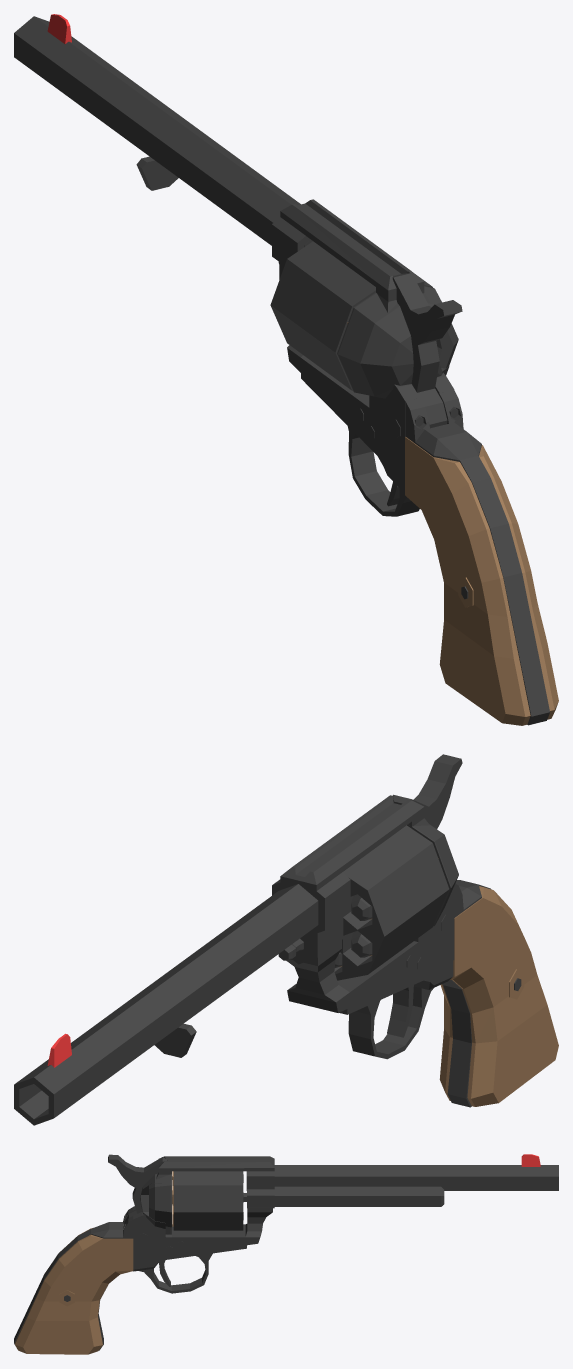
Rendered from pistol_10.glb.
3 renders of one model, top to bottom at view 1: azimuth 30°, elevation 25°; view 2: azimuth 150°, elevation 25°; view 3: azimuth 270°, elevation 25°, orthographic. The views are drawn at different scales.
Visible parts, largest first — view 1: p7_paint, p37_accent, p0_paint, p15_paint, p33_paint, p8_paint, p36_paint, p6_paint, p4_paint; view 2: p0_paint, p37_accent, p7_paint, p15_paint, p8_paint, p6_paint, p33_paint, p32_paint, p4_paint, p36_paint, p1_del; view 3: p37_accent, p0_paint, p7_paint, p15_paint, p2_paint, p8_paint, p33_paint, p6_paint, p31_paint, p36_paint.
Boxes of the visible parts, bbox=[...] form: p7_paint: bbox=[280, 199, 549, 725]; p37_accent: bbox=[405, 437, 558, 725]; p0_paint: bbox=[14, 16, 312, 246]; p15_paint: bbox=[270, 241, 432, 390]; p33_paint: bbox=[393, 273, 462, 428]; p8_paint: bbox=[301, 373, 419, 516]; p36_paint: bbox=[405, 389, 481, 461]; p6_paint: bbox=[272, 217, 310, 279]; p4_paint: bbox=[136, 156, 178, 190]; p0_paint: bbox=[14, 884, 318, 1125]; p37_accent: bbox=[439, 886, 558, 1106]; p7_paint: bbox=[280, 795, 491, 1107]; p15_paint: bbox=[334, 825, 449, 980]; p8_paint: bbox=[339, 961, 453, 1059]; p6_paint: bbox=[272, 872, 350, 964]; p33_paint: bbox=[393, 754, 462, 828]; p32_paint: bbox=[387, 985, 413, 1037]; p4_paint: bbox=[154, 1023, 196, 1057]; p36_paint: bbox=[454, 880, 481, 917]; p1_del: bbox=[47, 1033, 71, 1067]; p37_accent: bbox=[15, 1228, 133, 1354]; p0_paint: bbox=[246, 1165, 558, 1190]; p7_paint: bbox=[14, 1156, 274, 1350]; p15_paint: bbox=[173, 1171, 243, 1230]; p2_paint: bbox=[274, 1186, 444, 1206]; p8_paint: bbox=[133, 1245, 246, 1293]; p33_paint: bbox=[108, 1154, 166, 1224]; p6_paint: bbox=[247, 1171, 274, 1208]; p31_paint: bbox=[149, 1183, 171, 1234]; p36_paint: bbox=[91, 1207, 133, 1238].
Size of the model in its own units: 0.0416 by 0.1254 by 0.32.
